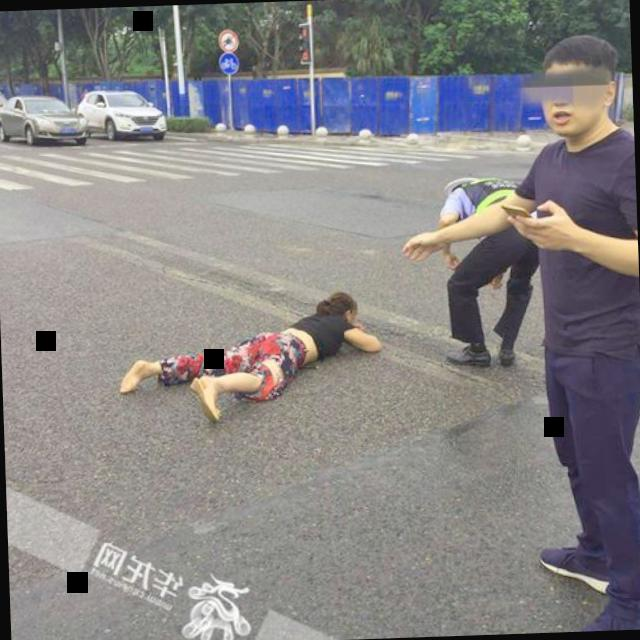Fall-Detected: (106, 274, 396, 430)
